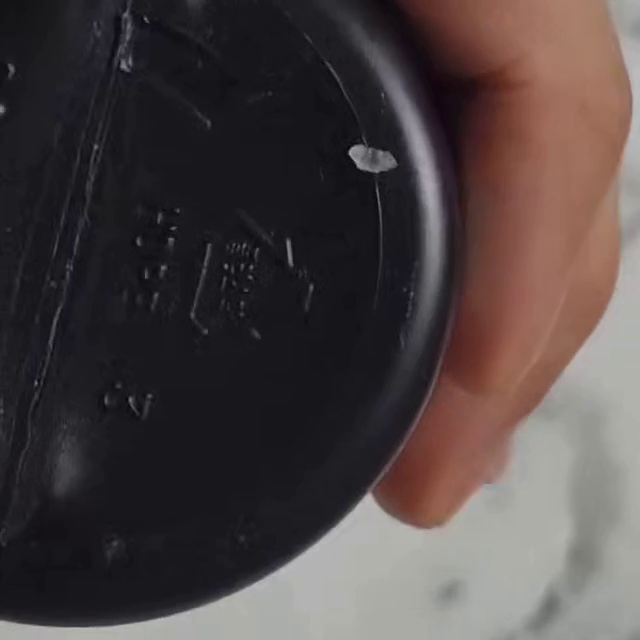Plastic: (183, 216, 318, 346)
